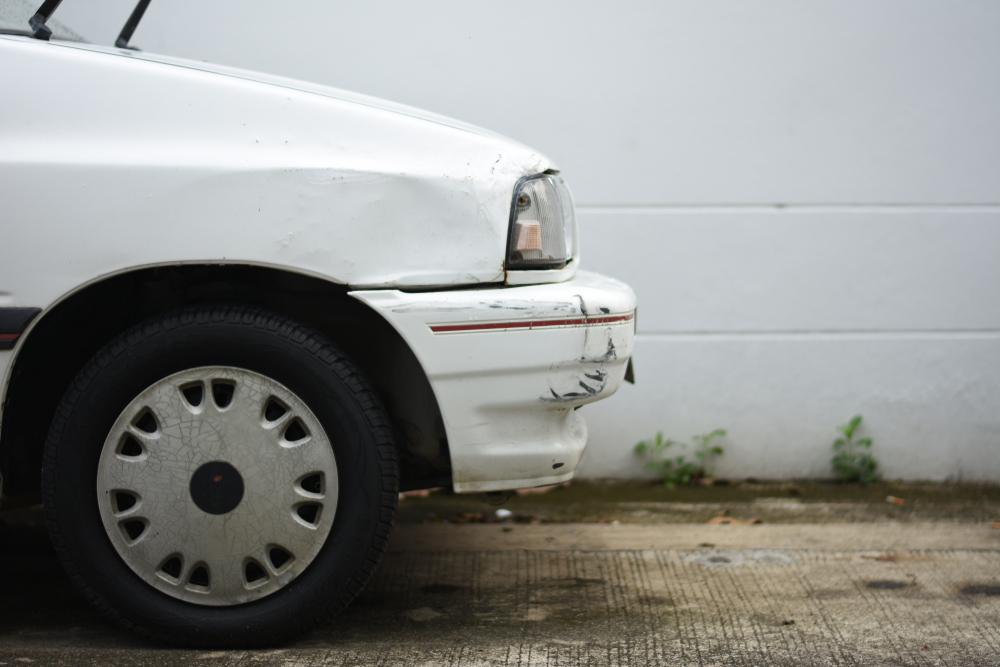dent: (342, 174, 501, 278)
scratch: (540, 339, 620, 408)
